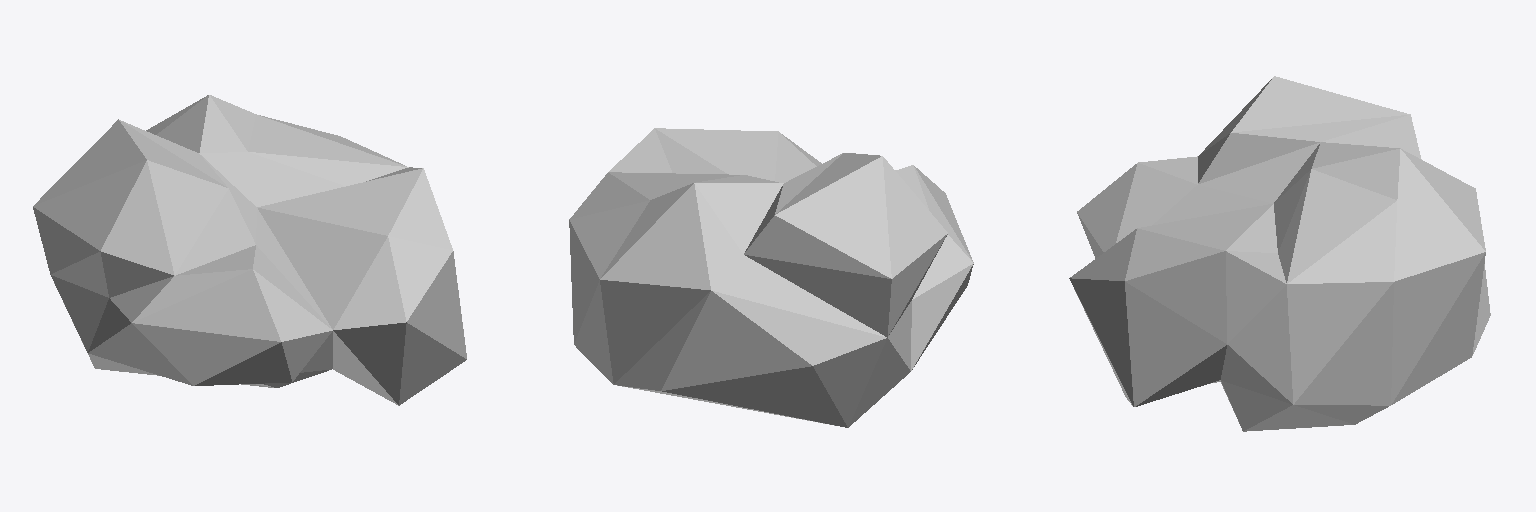
Rendered from stone2.obj.
3 renders of one model, left to right at view 1: azimuth 30°, elevation 25°; view 2: azimuth 150°, elevation 25°; view 3: azimuth 270°, elevation 25°, orthographic.
Visible parts, largest first — view 1: rock.002_Plane.013; view 2: rock.002_Plane.013; view 3: rock.002_Plane.013.
Boxes of the visible parts, box(x1,y1,x2,y2) form: rock.002_Plane.013: box(33, 95, 466, 405); rock.002_Plane.013: box(569, 128, 973, 427); rock.002_Plane.013: box(1069, 76, 1490, 431).
Size of the model in its own units: 1.17 by 0.8107 by 1.24.